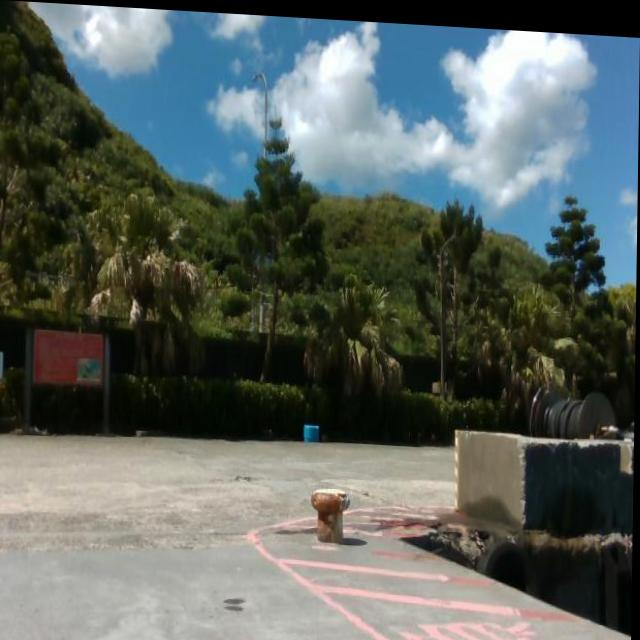pollute: (302, 420, 321, 441)
